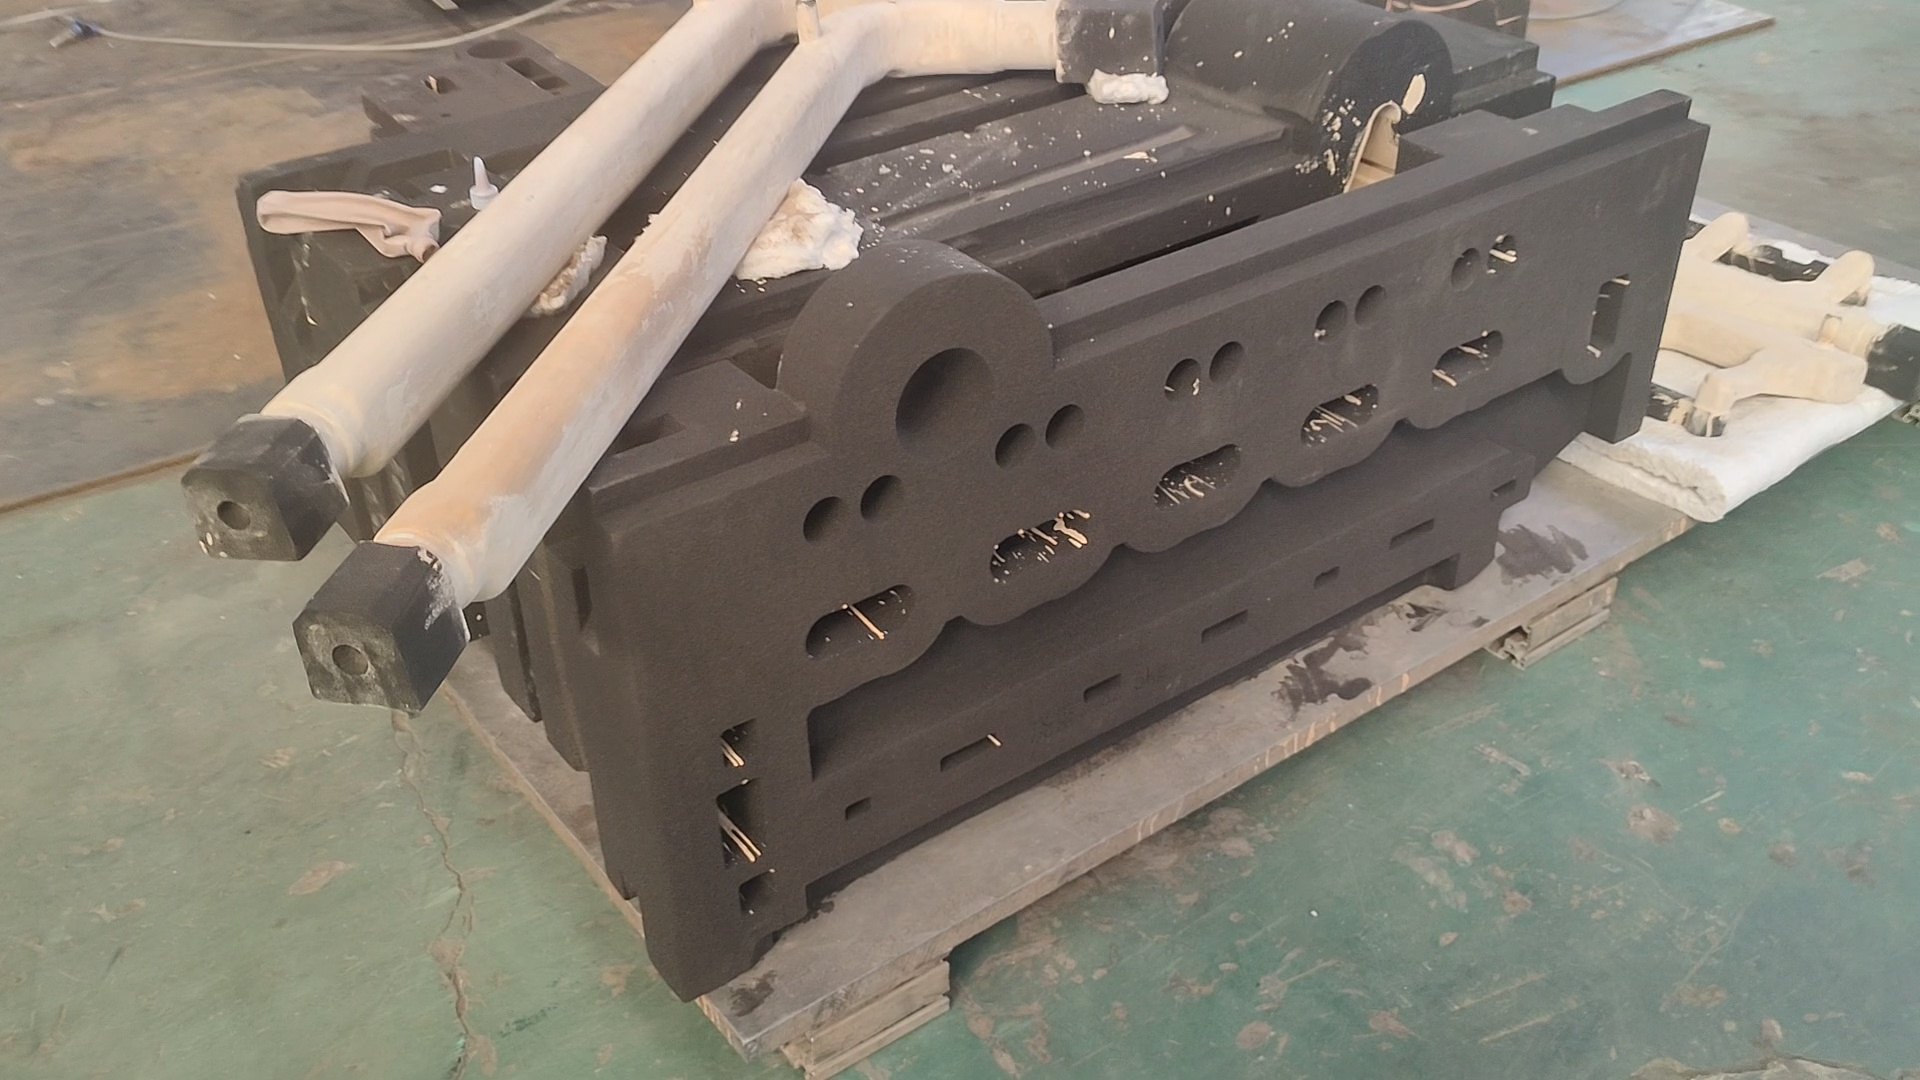pouring hole: (895, 345, 996, 463), (465, 38, 525, 59)
